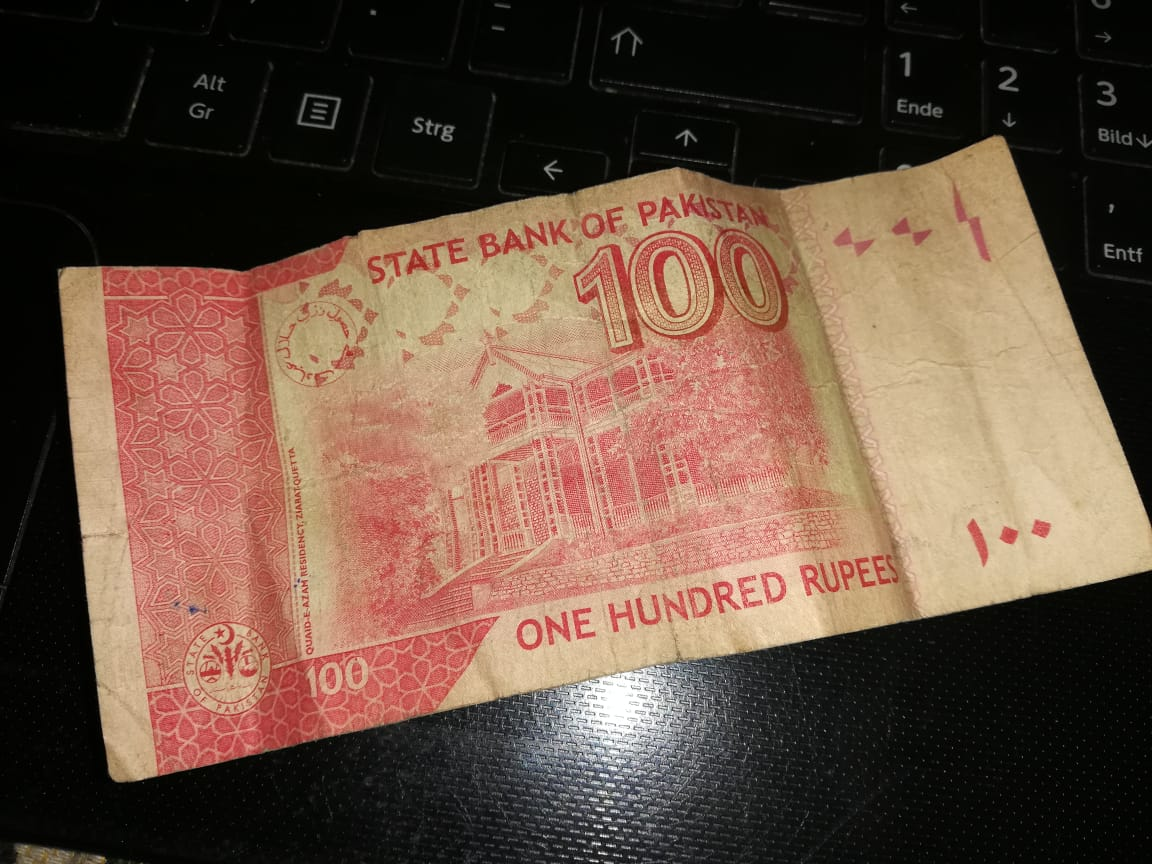100 rupee: (8, 149, 1148, 789)
